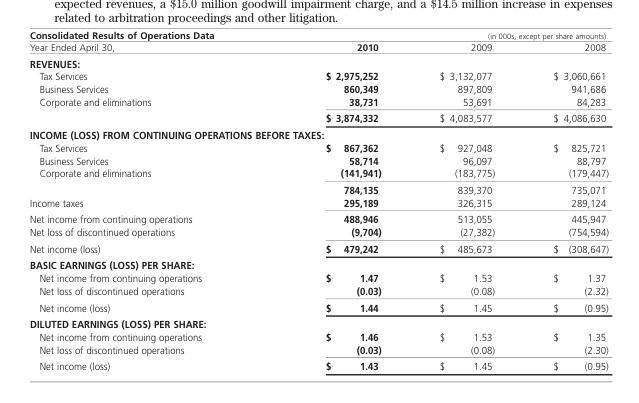table: (29, 28, 607, 371)
table column: (29, 28, 269, 371), (269, 28, 409, 371), (409, 28, 523, 371), (523, 28, 607, 371)
table column header: (29, 28, 607, 54)
table projected row header: (29, 54, 607, 69), (29, 256, 607, 271), (29, 126, 607, 140), (29, 315, 607, 329)
table row: (29, 109, 607, 126), (29, 239, 607, 256), (29, 298, 607, 315), (29, 54, 607, 69), (29, 94, 607, 109), (29, 166, 607, 181), (29, 195, 607, 210), (29, 210, 607, 225), (29, 256, 607, 271), (29, 283, 607, 298), (29, 342, 607, 357), (29, 40, 607, 54), (29, 126, 607, 140), (29, 181, 607, 195), (29, 225, 607, 239), (29, 315, 607, 329), (29, 357, 607, 371), (29, 69, 607, 82), (29, 140, 607, 153), (29, 153, 607, 166), (29, 329, 607, 342), (29, 28, 607, 40), (29, 82, 607, 94), (29, 271, 607, 283)
table spanning cell: (29, 28, 269, 54), (269, 28, 607, 40)
